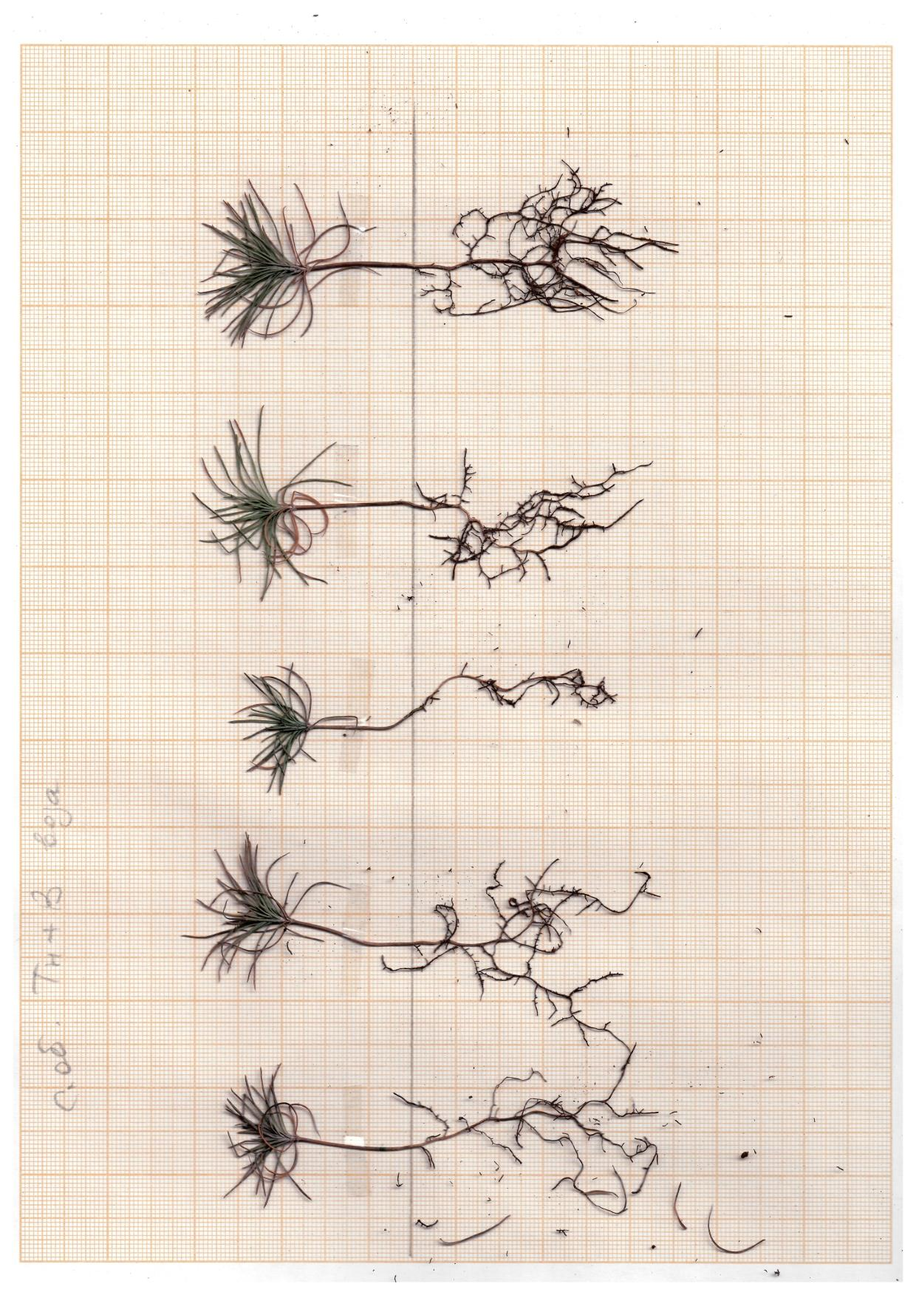root: (414, 858, 663, 1044), (420, 161, 682, 329), (391, 1063, 670, 1218), (416, 446, 661, 593), (408, 661, 622, 721)
seeding: (188, 401, 357, 605), (193, 174, 380, 351), (178, 829, 295, 995), (213, 1065, 317, 1205), (224, 658, 321, 798)
stem: (289, 914, 434, 950), (302, 1133, 416, 1156), (312, 708, 409, 734), (311, 257, 422, 277), (296, 499, 424, 514)
